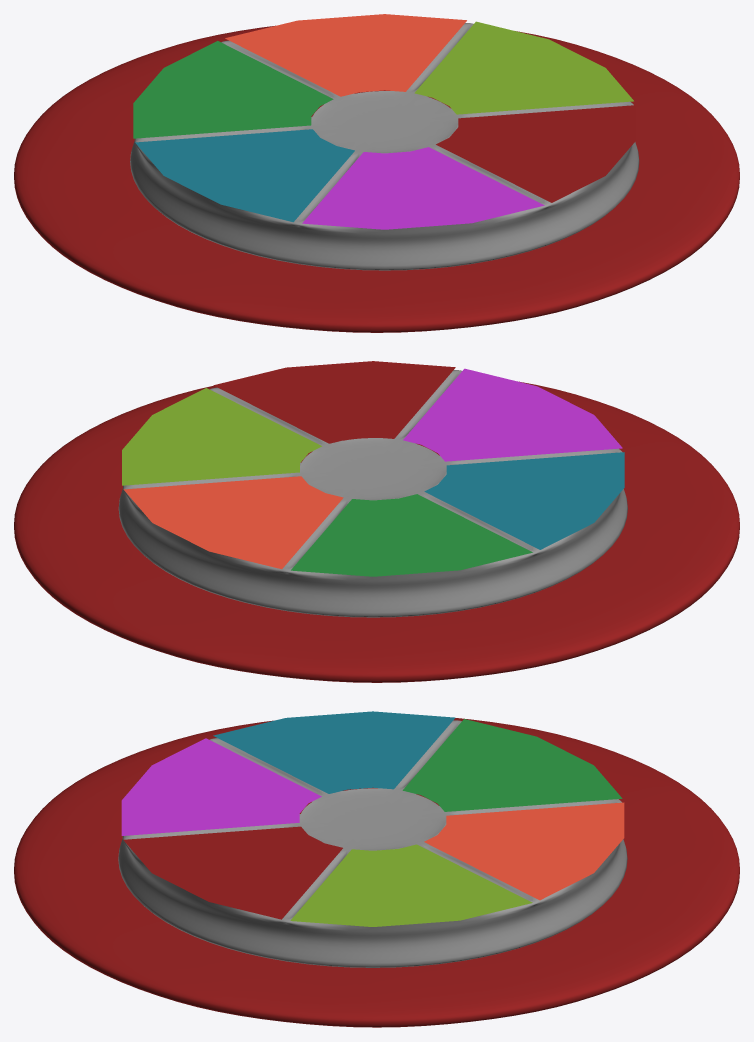
The model's file is dwefesdvfdrgfdfdfdfdf.FBX.
3 renders of one model, top to bottom at view 1: azimuth 30°, elevation 25°; view 2: azimuth 150°, elevation 25°; view 3: azimuth 270°, elevation 25°, orthographic.
Visible parts, largest first — view 1: Cylinder002, Object001, Cylinder001; view 2: Cylinder002, Object001, Cylinder001; view 3: Object001, Cylinder002, Cylinder001.
Part boxes in pixels (x1,y1,x2,y2): Cylinder002: (14, 25, 739, 332); Object001: (133, 14, 635, 229); Cylinder001: (130, 23, 639, 270); Cylinder002: (14, 381, 739, 682); Object001: (122, 361, 624, 576); Cylinder001: (118, 370, 627, 617); Object001: (121, 711, 624, 926); Cylinder002: (14, 718, 739, 1027); Cylinder001: (118, 720, 627, 967).
Bounding box in the file's own units: 157 × 16.19 × 157.
